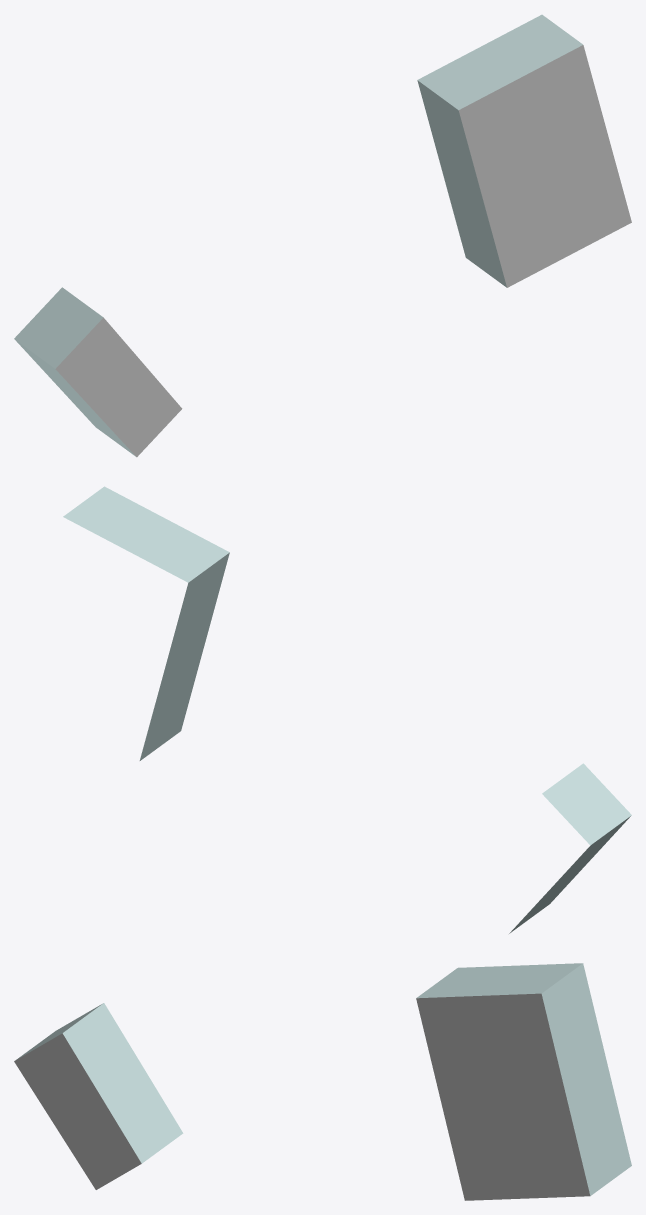
3 renders of one model, top to bottom at view 1: azimuth 30°, elevation 25°; view 2: azimuth 150°, elevation 25°; view 3: azimuth 330°, elevation 25°, orthographic.
Visible parts, largest first — view 1: 0_2_2_3_1_2_2_3_3; view 2: 0_2_2_3_1_2_2_3_3; view 3: 0_2_2_3_1_2_2_3_3.
Boxes of the visible parts, x1,y1,x2,y2 form: 0_2_2_3_1_2_2_3_3: (14, 14, 631, 457); 0_2_2_3_1_2_2_3_3: (63, 486, 631, 933); 0_2_2_3_1_2_2_3_3: (14, 963, 631, 1200).
Size of the model in its own units: 24.07 by 12.22 by 3.13.
